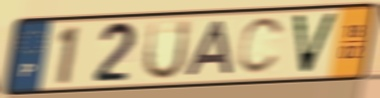1: (56, 23, 82, 87)
2: (90, 18, 142, 88)
A: (183, 18, 236, 79)
C: (235, 15, 287, 78)
U: (140, 17, 193, 83)
V: (290, 11, 341, 77)
